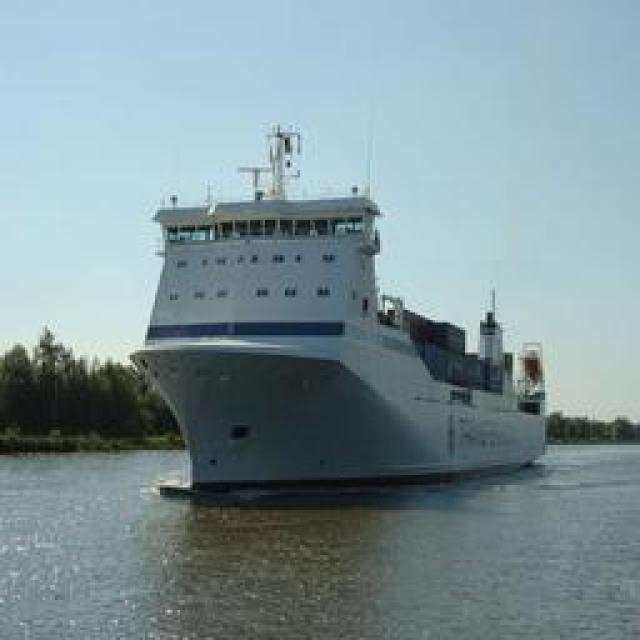CIV_Ship: (138, 150, 550, 492)
